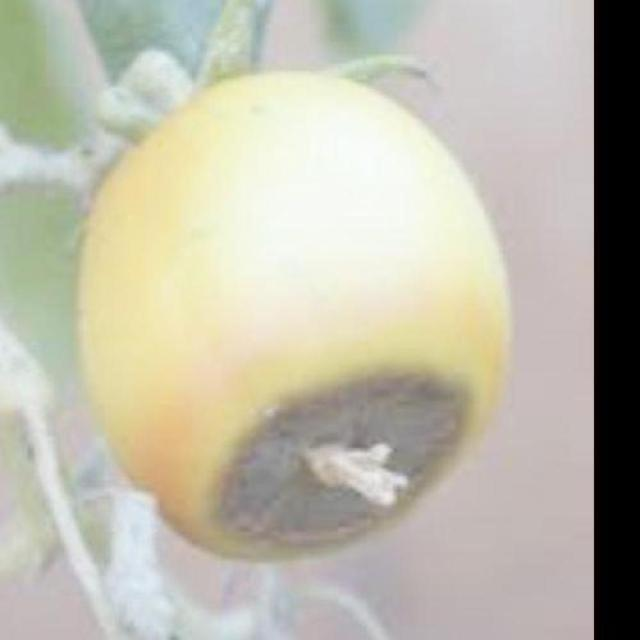Blossom End Rot Fruit: (137, 236, 318, 367)
